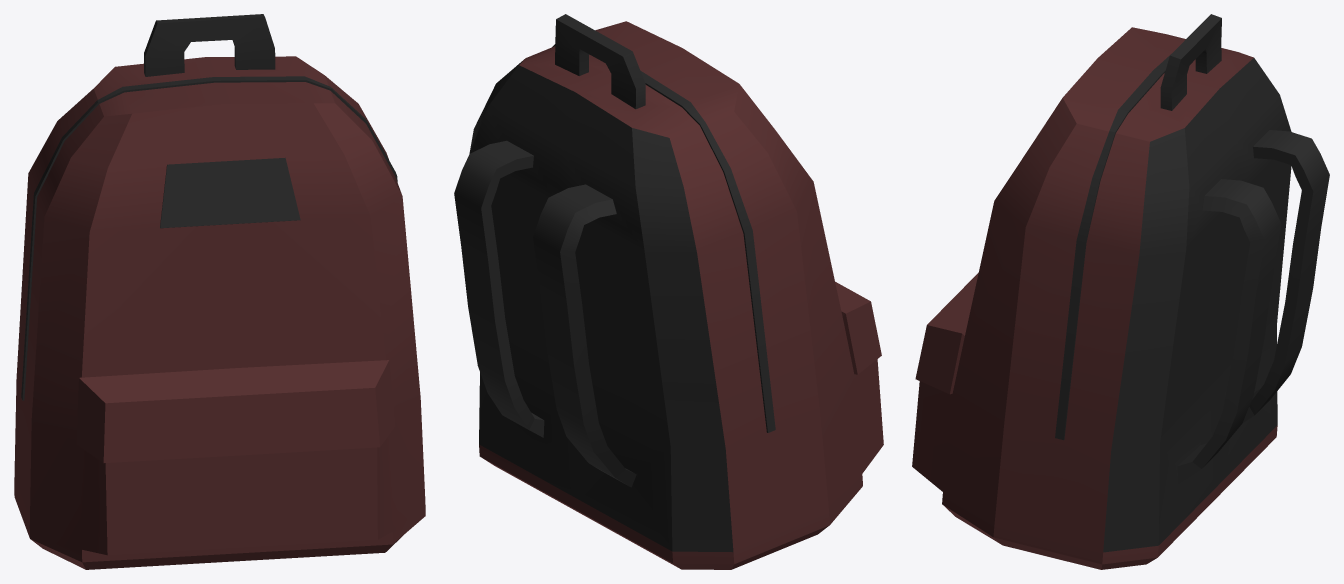
Rendered from Bookbag.fbx.
3 renders of one model, left to right at view 1: azimuth 30°, elevation 25°; view 2: azimuth 150°, elevation 25°; view 3: azimuth 270°, elevation 25°, orthographic. The views are drawn at different scales.
Visible parts, largest first — view 1: bookbag; view 2: bookbag; view 3: bookbag.
Part boxes in pixels (x1,y1,x2,y2): bookbag: [14, 14, 425, 569]; bookbag: [454, 14, 883, 569]; bookbag: [912, 14, 1329, 569].
Size of the model in its own units: 1.56 by 1.96 by 1.58.
